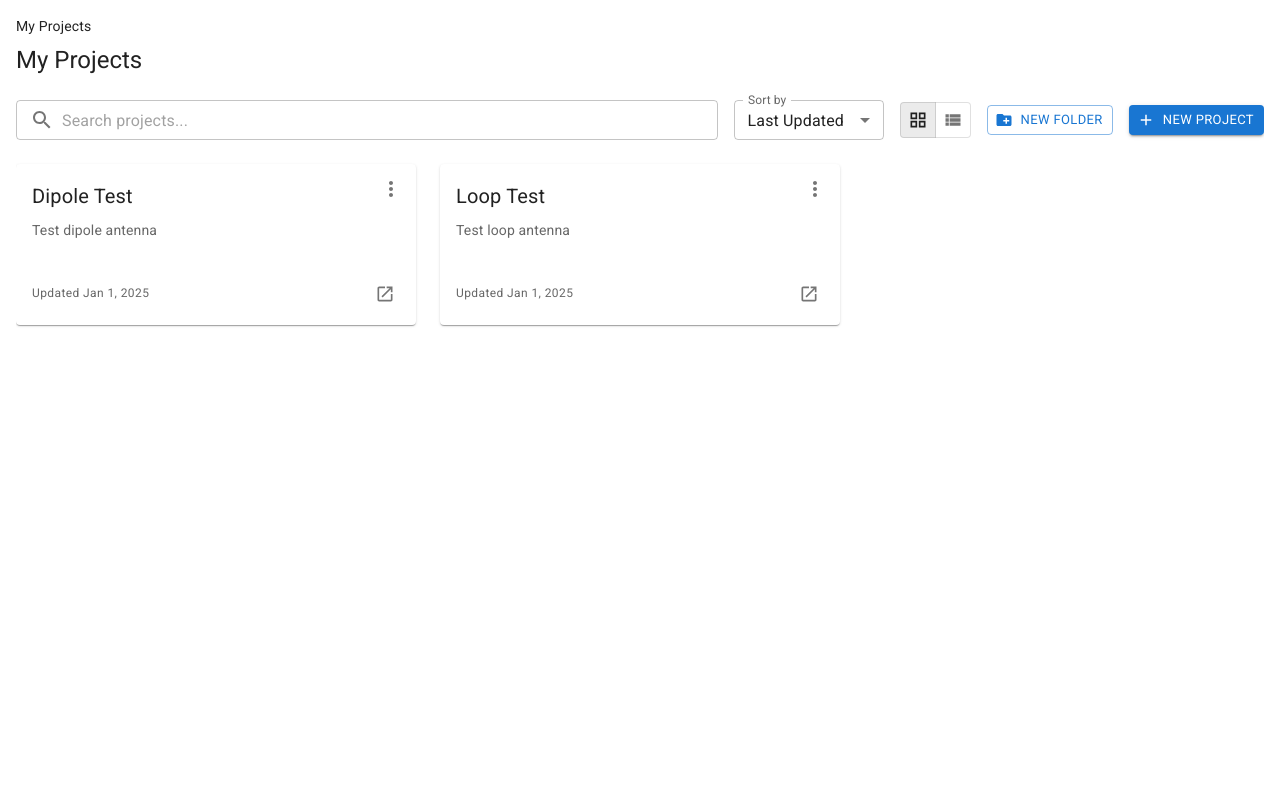
Test: ProjectsPage › should open "New Project" dialog when clicking button
Step 1. Click the button "New Project" → (1196,120), box [1129,105,1264,136]
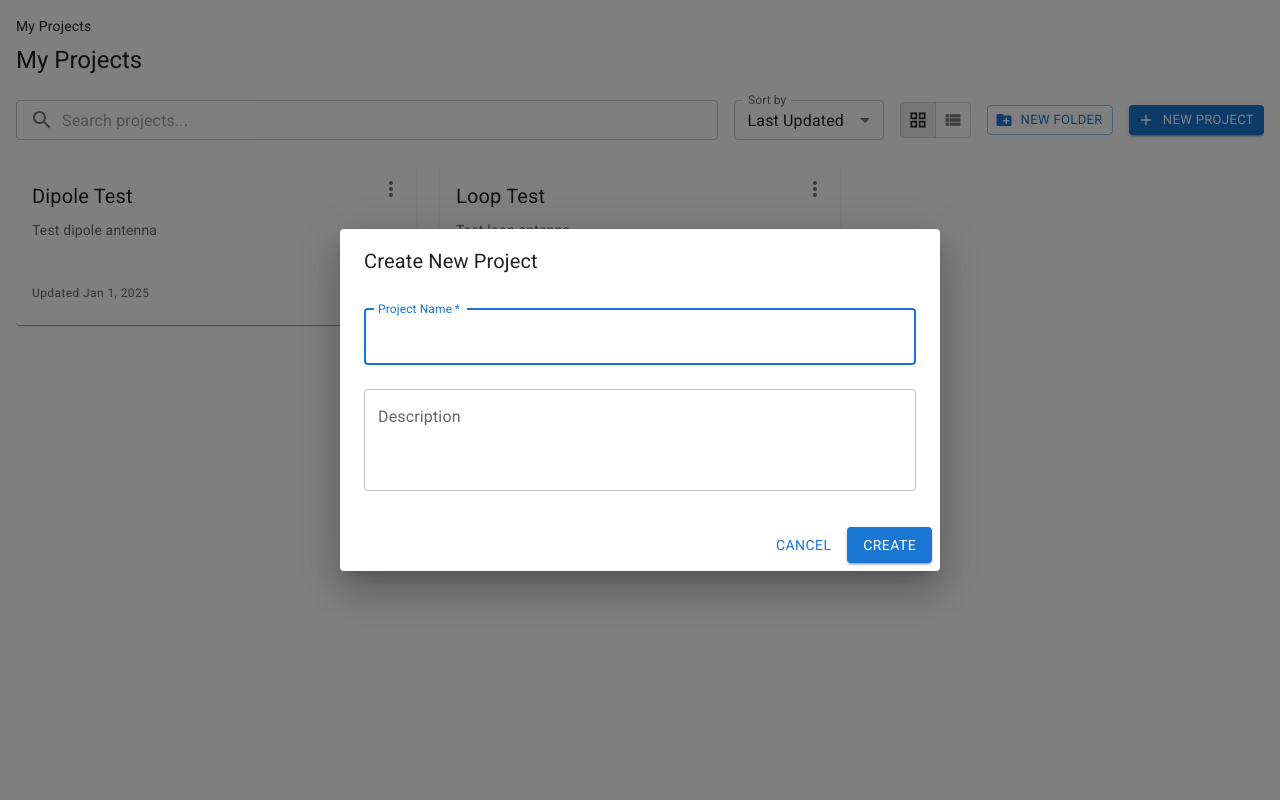
Expected: the heading "Create New Project" is shown, [364,249,538,273]
